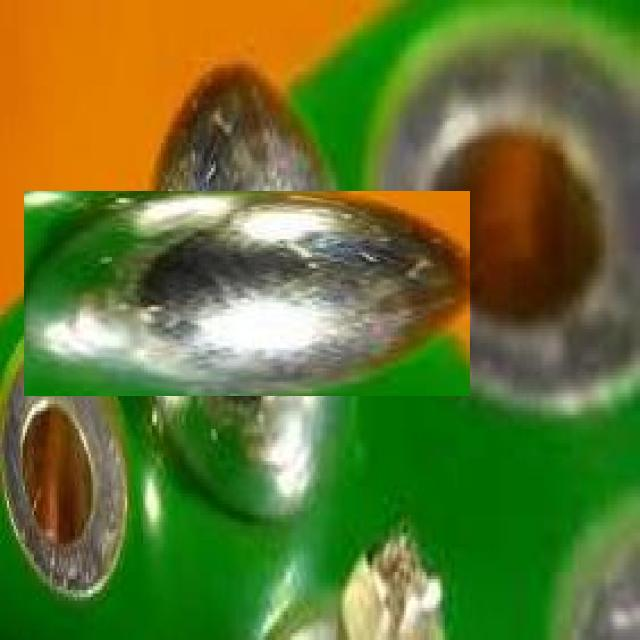redundant: (24, 192, 469, 396)
